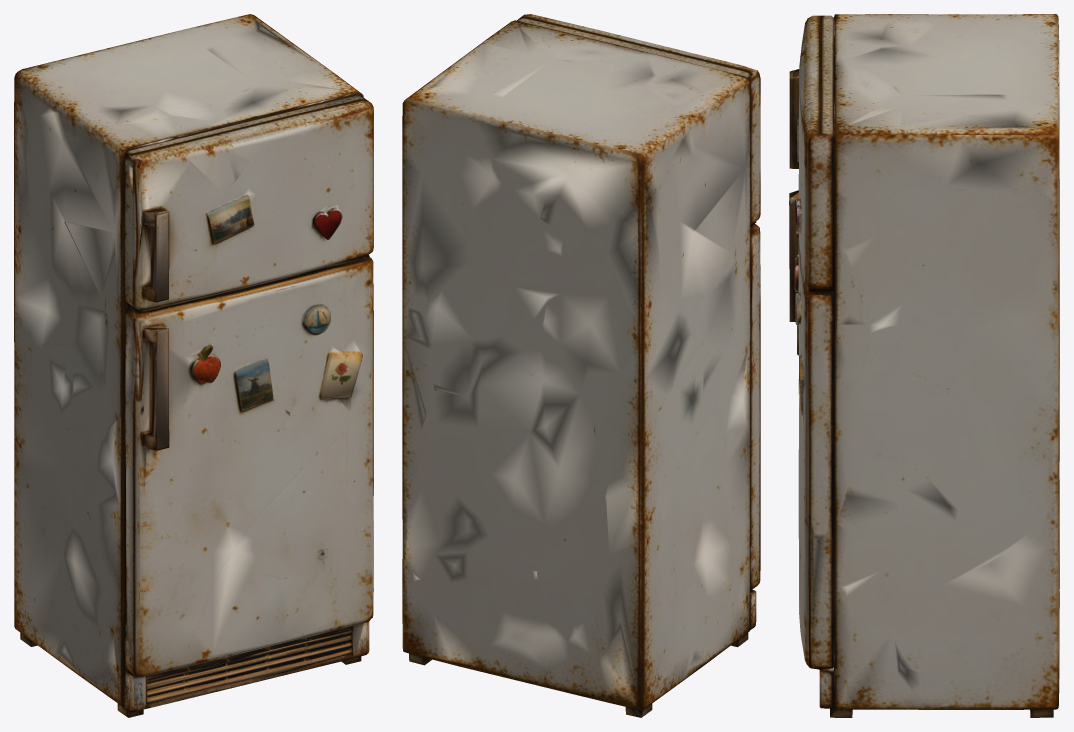
Rendered from Nevera.glb.
3 views of the same model, side by side, from view 1: azimuth 30°, elevation 25°; view 2: azimuth 150°, elevation 25°; view 3: azimuth 270°, elevation 25° (orthographic). The views are drawn at different scales.
Visible parts, largest first — view 1: node_0; view 2: node_0; view 3: node_0.
Boxes of the visible parts, x1,y1,x2,y2 form: node_0: [14, 14, 373, 717]; node_0: [402, 14, 760, 717]; node_0: [789, 14, 1059, 717].
Size of the model in its own units: 0.4643 by 1.04 by 0.4323.
Materials: 1 (1 with a texture image).
